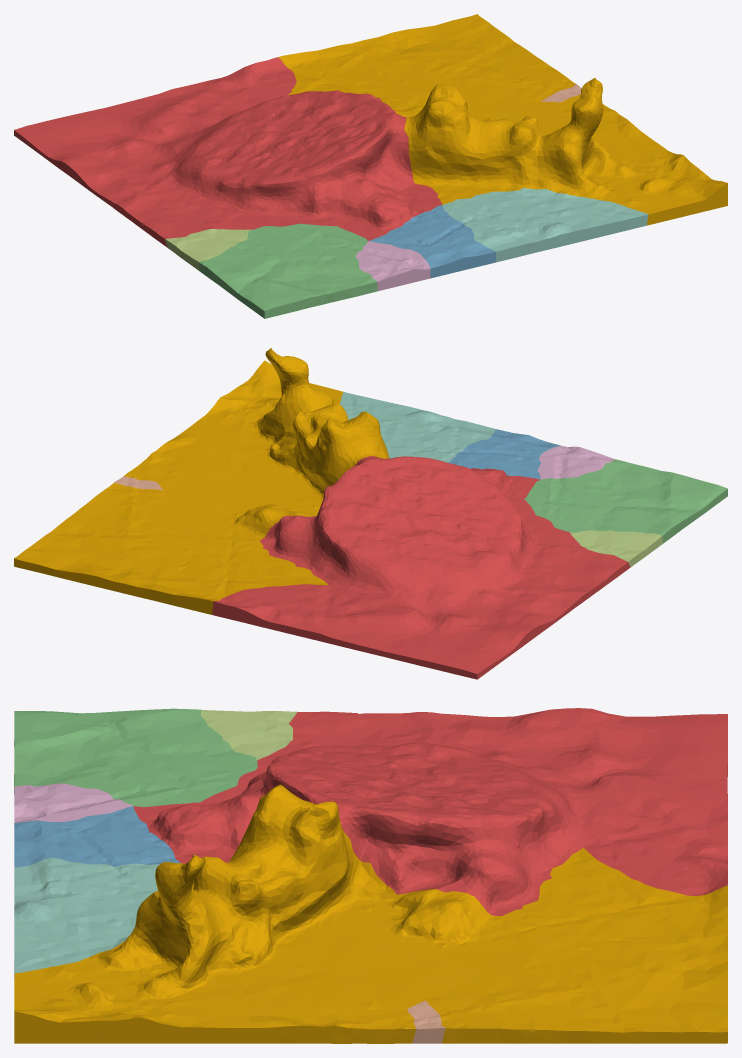
Rendered from fractured_18_8pcs.glb.
3 renders of one model, top to bottom at view 1: azimuth 30°, elevation 25°; view 2: azimuth 150°, elevation 25°; view 3: azimuth 270°, elevation 25°, orthographic. The views are drawn at different scales.
Parts seen in each view (by area): view 1: piece_1.obj, piece_0.obj, piece_3.obj, piece_4.obj, piece_2.obj, piece_6.obj, piece_5.obj; view 2: piece_1.obj, piece_0.obj, piece_3.obj, piece_4.obj, piece_2.obj, piece_5.obj, piece_6.obj; view 3: piece_0.obj, piece_1.obj, piece_3.obj, piece_4.obj, piece_2.obj, piece_6.obj, piece_5.obj, piece_7.obj.
Part boxes in pixels (box(x1,y1,x2,y2)): piece_1.obj: box(14, 57, 442, 246); piece_0.obj: box(278, 14, 727, 225); piece_3.obj: box(199, 223, 377, 318); piece_4.obj: box(442, 188, 648, 262); piece_2.obj: box(368, 205, 496, 278); piece_6.obj: box(355, 241, 430, 291); piece_5.obj: box(165, 229, 251, 270); piece_1.obj: box(212, 456, 630, 679); piece_0.obj: box(14, 348, 389, 614); piece_3.obj: box(524, 459, 727, 543); piece_4.obj: box(339, 392, 496, 462); piece_2.obj: box(447, 429, 561, 479); piece_5.obj: box(569, 530, 662, 567); piece_6.obj: box(537, 446, 614, 479); piece_0.obj: box(14, 784, 727, 1043); piece_1.obj: box(133, 708, 727, 915); piece_3.obj: box(14, 708, 257, 807); piece_4.obj: box(14, 857, 159, 978); piece_2.obj: box(14, 806, 180, 867); piece_6.obj: box(14, 783, 132, 822); piece_5.obj: box(200, 710, 297, 759); piece_7.obj: box(407, 1000, 446, 1043).
Bounding box in the file's own units: 1 × 0.2042 × 0.9367.
